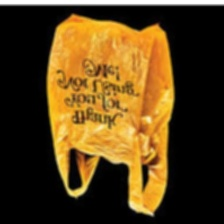plastic_bag: (43, 10, 176, 219)
